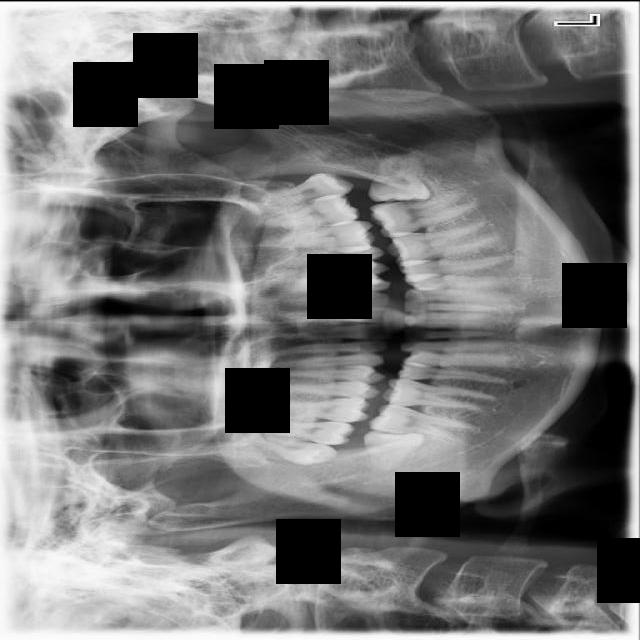3M ESPE Implant: (231, 430, 338, 470)
73: (556, 36, 566, 40)
BioHorizons Implant: (248, 192, 362, 233)
BioLife Implant: (243, 167, 355, 211)
Biomet 3i Implant: (366, 152, 431, 202)
Blue Sky Bio Implant: (367, 187, 480, 240)
Caries: (241, 419, 355, 445)
Implant: (367, 400, 478, 444)
Keystone Dental Implant: (361, 429, 424, 473)
